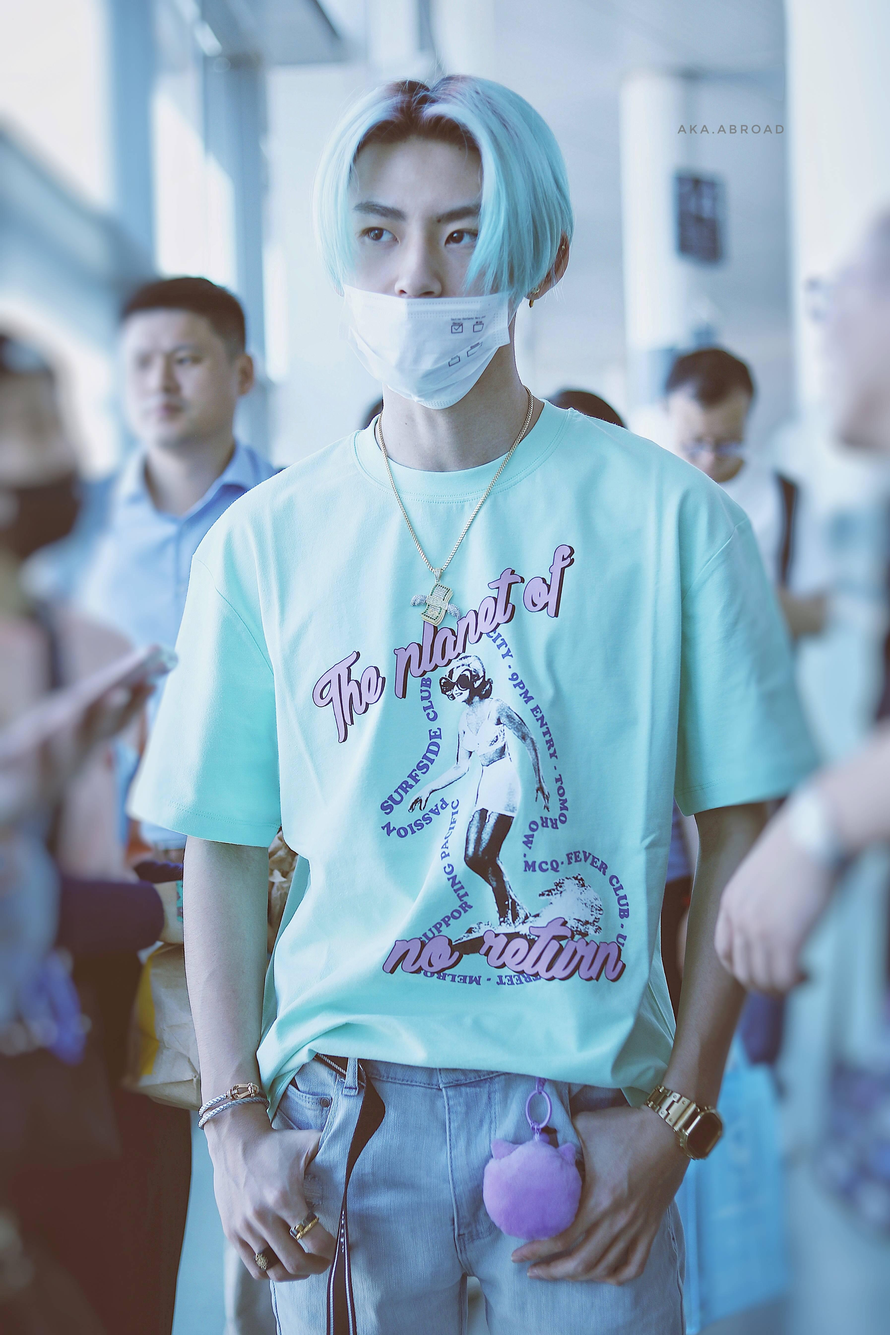NONE: (125, 333, 226, 449), (671, 397, 747, 478)
WRONG: (351, 174, 513, 403), (0, 401, 92, 548)
